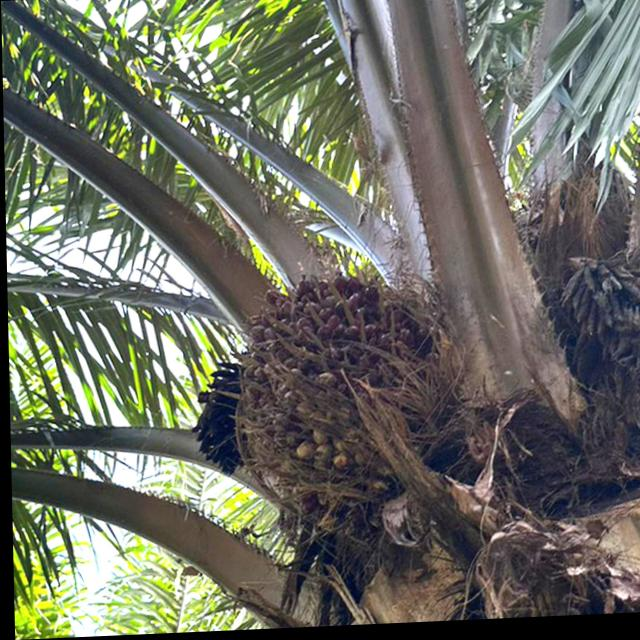ripe: (220, 257, 469, 514)
